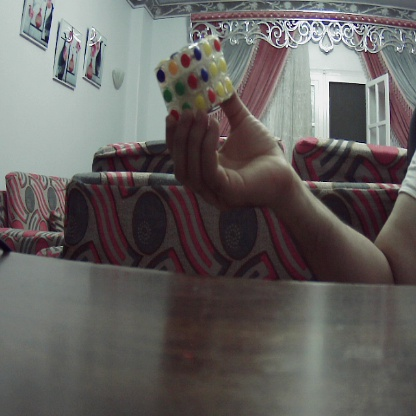Rubix Cube: (156, 38, 238, 116)
